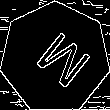M_SW: (22, 23, 88, 92)
